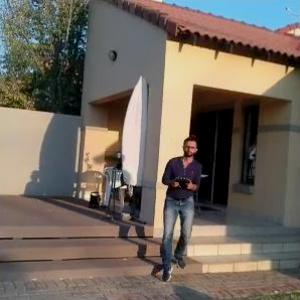follow: (154, 133, 202, 280)
